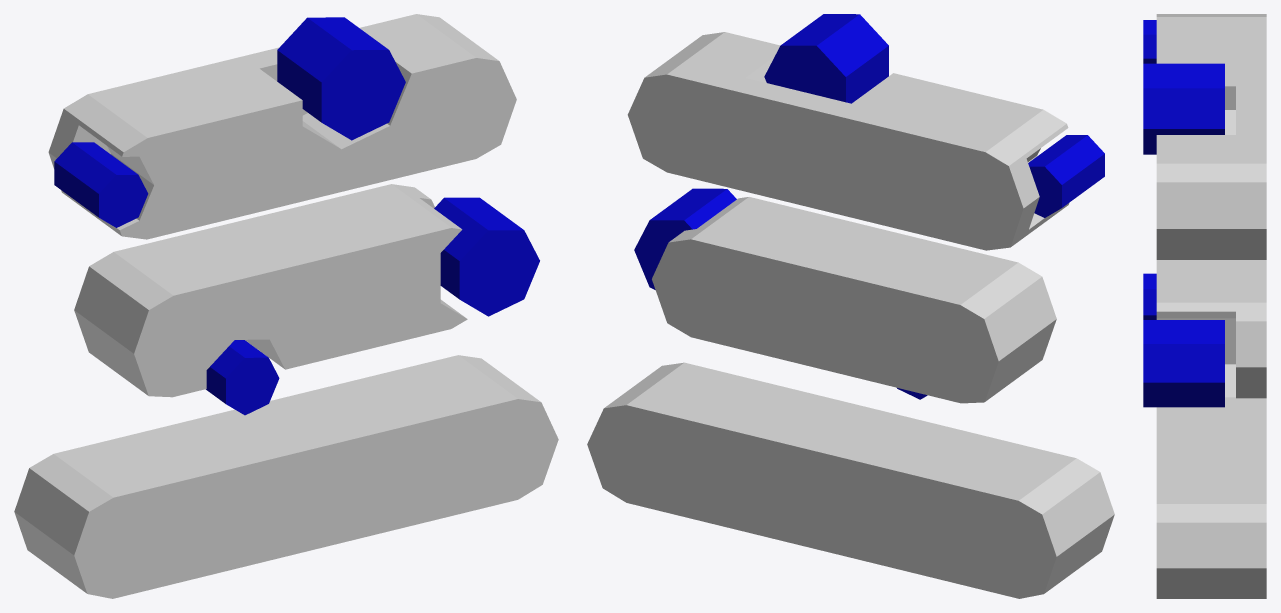
Rendered from Ch_Lite_China_三_01.fbx.
3 renders of one model, left to right at view 1: azimuth 30°, elevation 25°; view 2: azimuth 150°, elevation 25°; view 3: azimuth 270°, elevation 25°, orthographic. The views are drawn at different scales.
Parts seen in each view (by area): view 1: sphere1; view 2: sphere1; view 3: sphere1.
Part boxes in pixels (x1,y1,x2,y2): sphere1: [14, 14, 558, 598]; sphere1: [587, 14, 1114, 598]; sphere1: [1143, 14, 1266, 598].
Bounding box in the file's own units: 0.9331 × 0.9157 × 0.2242.
